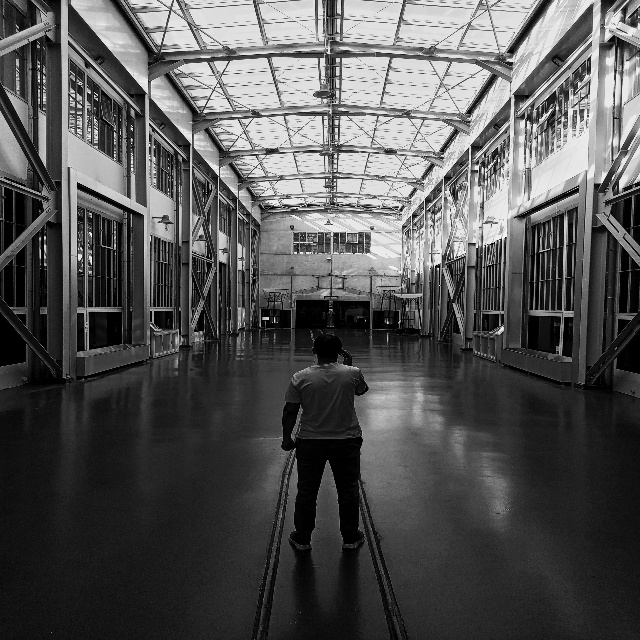Sin_guantes: (280, 436, 295, 451), (343, 348, 353, 365)
